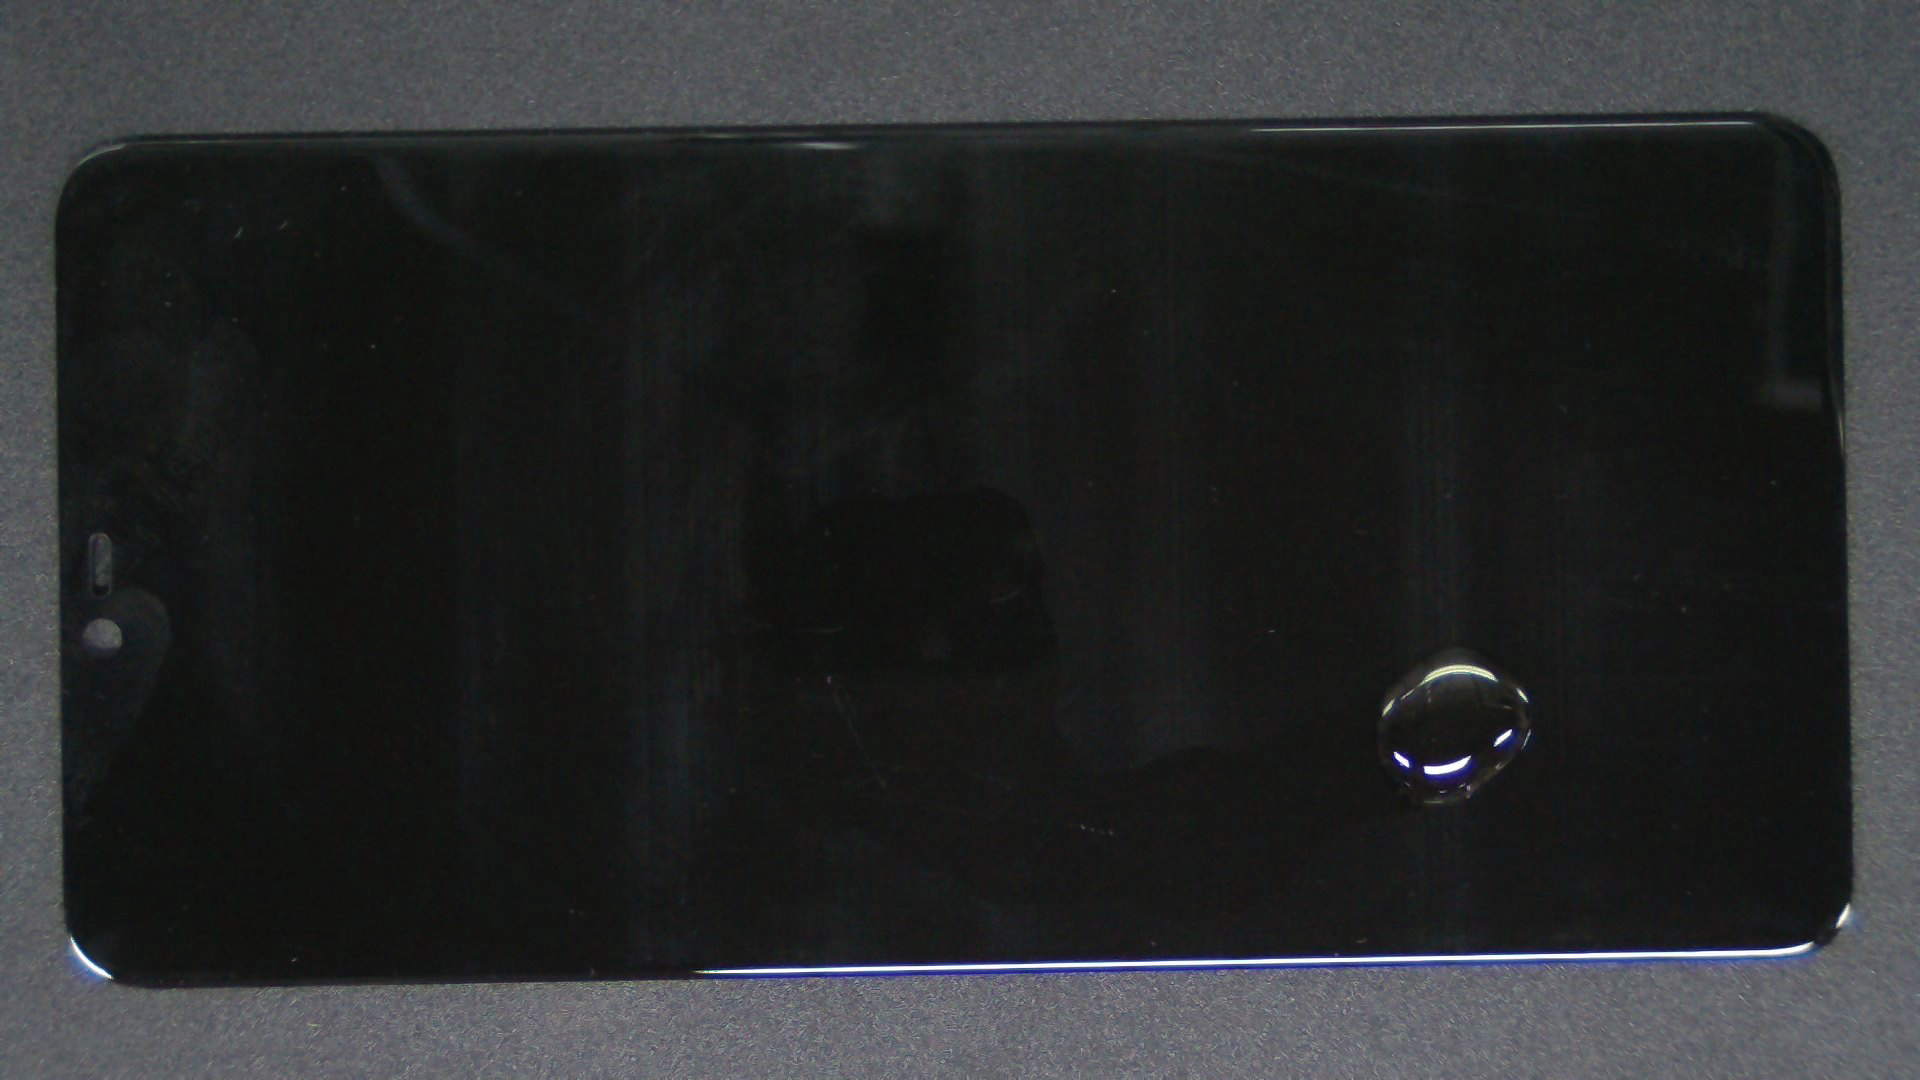defect: (1375, 647, 1531, 807)
